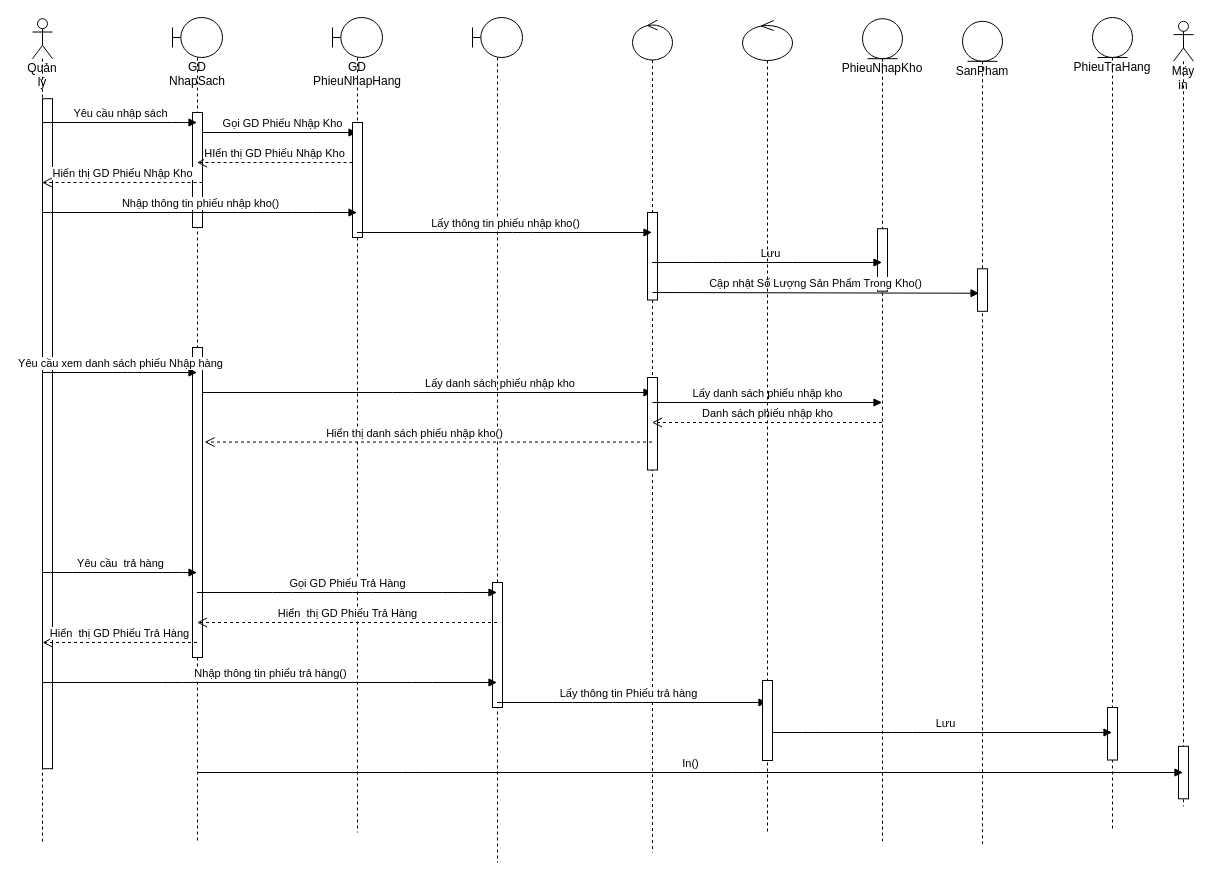
Image size: 1212x880. Some labels were removed from this diagram. The shapes that lost their labels are listed below. From the top down, each one's box as (x1, y1, x2, y2) in pixels, then its label:
(472, 16, 522, 862): GD PhieuTraHang
(632, 19, 672, 852): NhapKhoController
(742, 20, 792, 832): TraHangController
